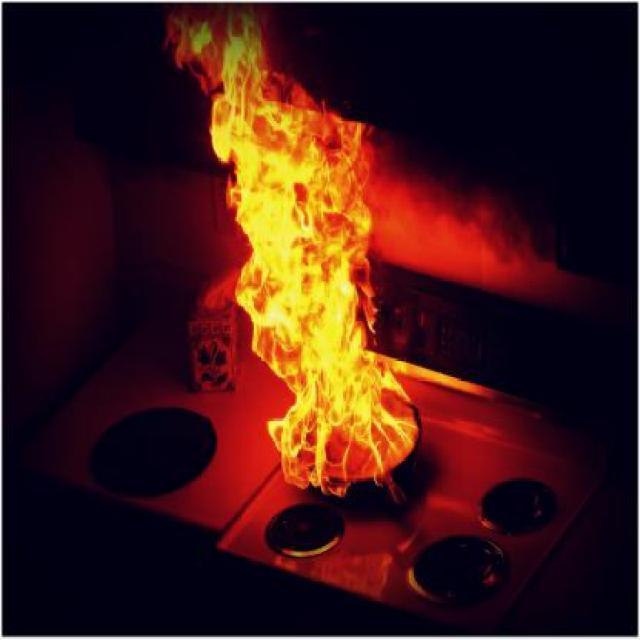Fire: (172, 0, 455, 517)
Smoke: (0, 0, 638, 303)
